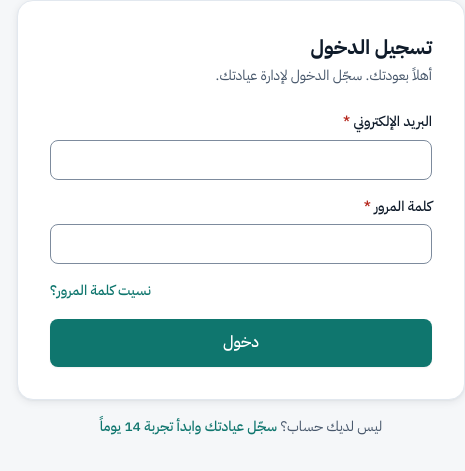
it: Sign-in: the MFA challenge › shows the server's message for a wrong code, clears the box and stays on the step
Type "root@platform.test" into the field labelled "البريد الإلكتروني *" at (241, 160), box [50,140,432,180]
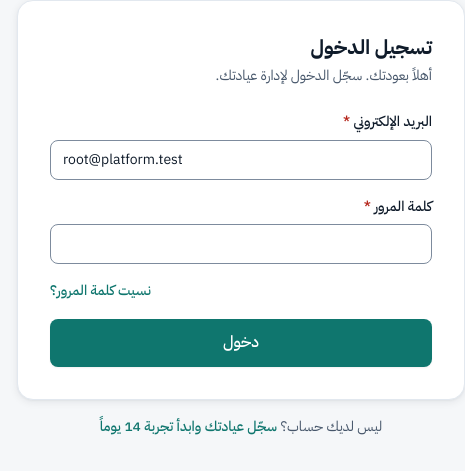
Type "Platform-Admin-Passw0rd!" into the password field labelled "كلمة المرور *" at (241, 244), box [50,224,432,264]
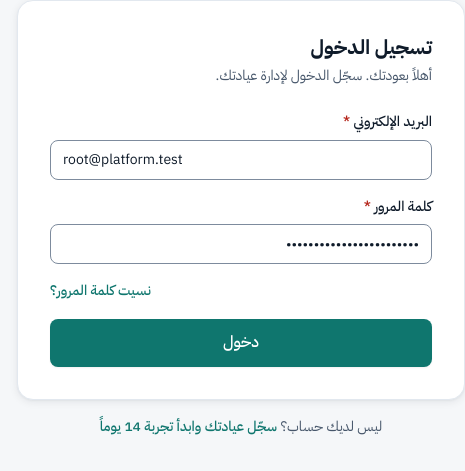
Click the button "دخول" at (241, 343), box [50,319,432,367]
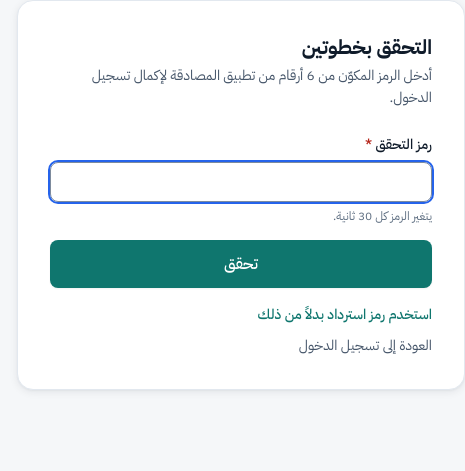
Type "000000" into the field labelled "رمز التحقق *" at (241, 182), box [50,162,432,202]
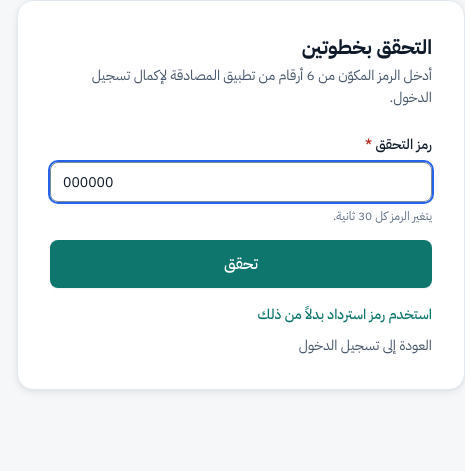
Click the button "تحقق" at (241, 264), box [50,240,432,288]
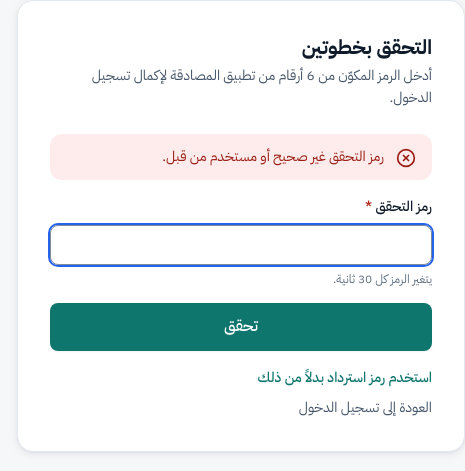
Result: the message shows "رمز التحقق غير صحيح" at [162,146,384,167]
